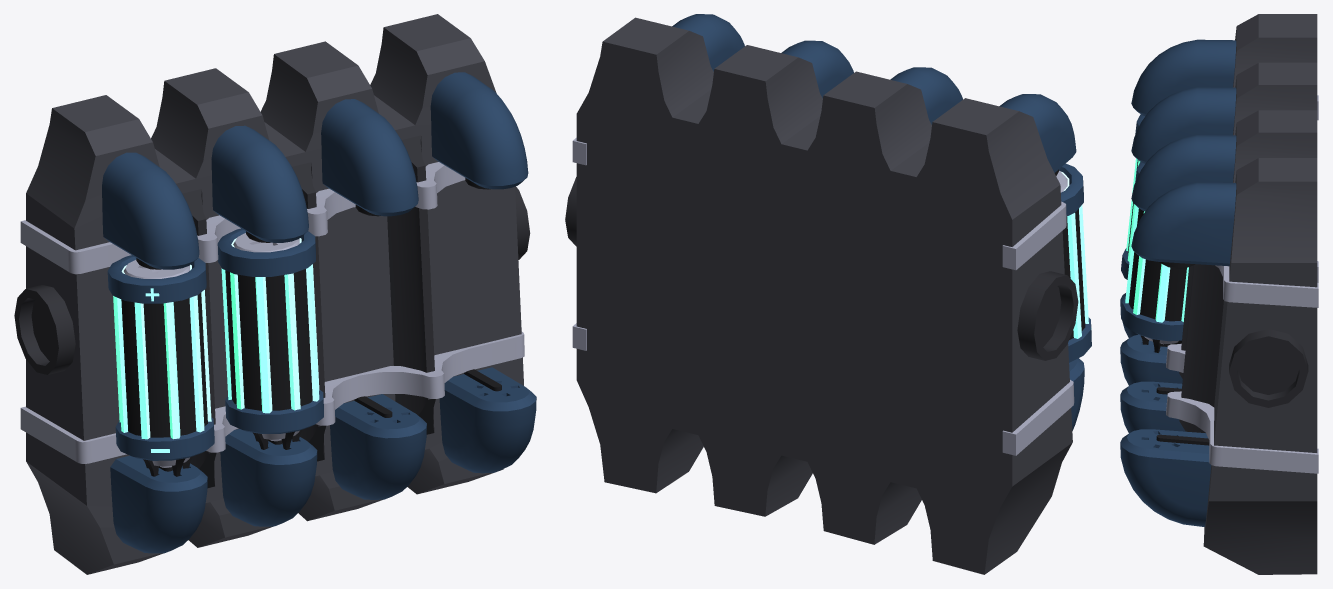
The model's file is Misc_BatteryCharger_X4_D.glb.
3 views of the same model, side by side, from view 1: azimuth 30°, elevation 25°; view 2: azimuth 150°, elevation 25°; view 3: azimuth 270°, elevation 25° (orthographic). The views are drawn at different scales.
Visible parts, largest first — view 1: Misc_BatteryCharger_X4_D.001; view 2: Misc_BatteryCharger_X4_D.001; view 3: Misc_BatteryCharger_X4_D.001.
Boxes of the visible parts, x1,y1,x2,y2 form: Misc_BatteryCharger_X4_D.001: [14, 14, 536, 574]; Misc_BatteryCharger_X4_D.001: [565, 14, 1091, 574]; Misc_BatteryCharger_X4_D.001: [1120, 14, 1318, 574].
Bounding box in the file's own units: 0.344 × 0.3091 × 0.141.
